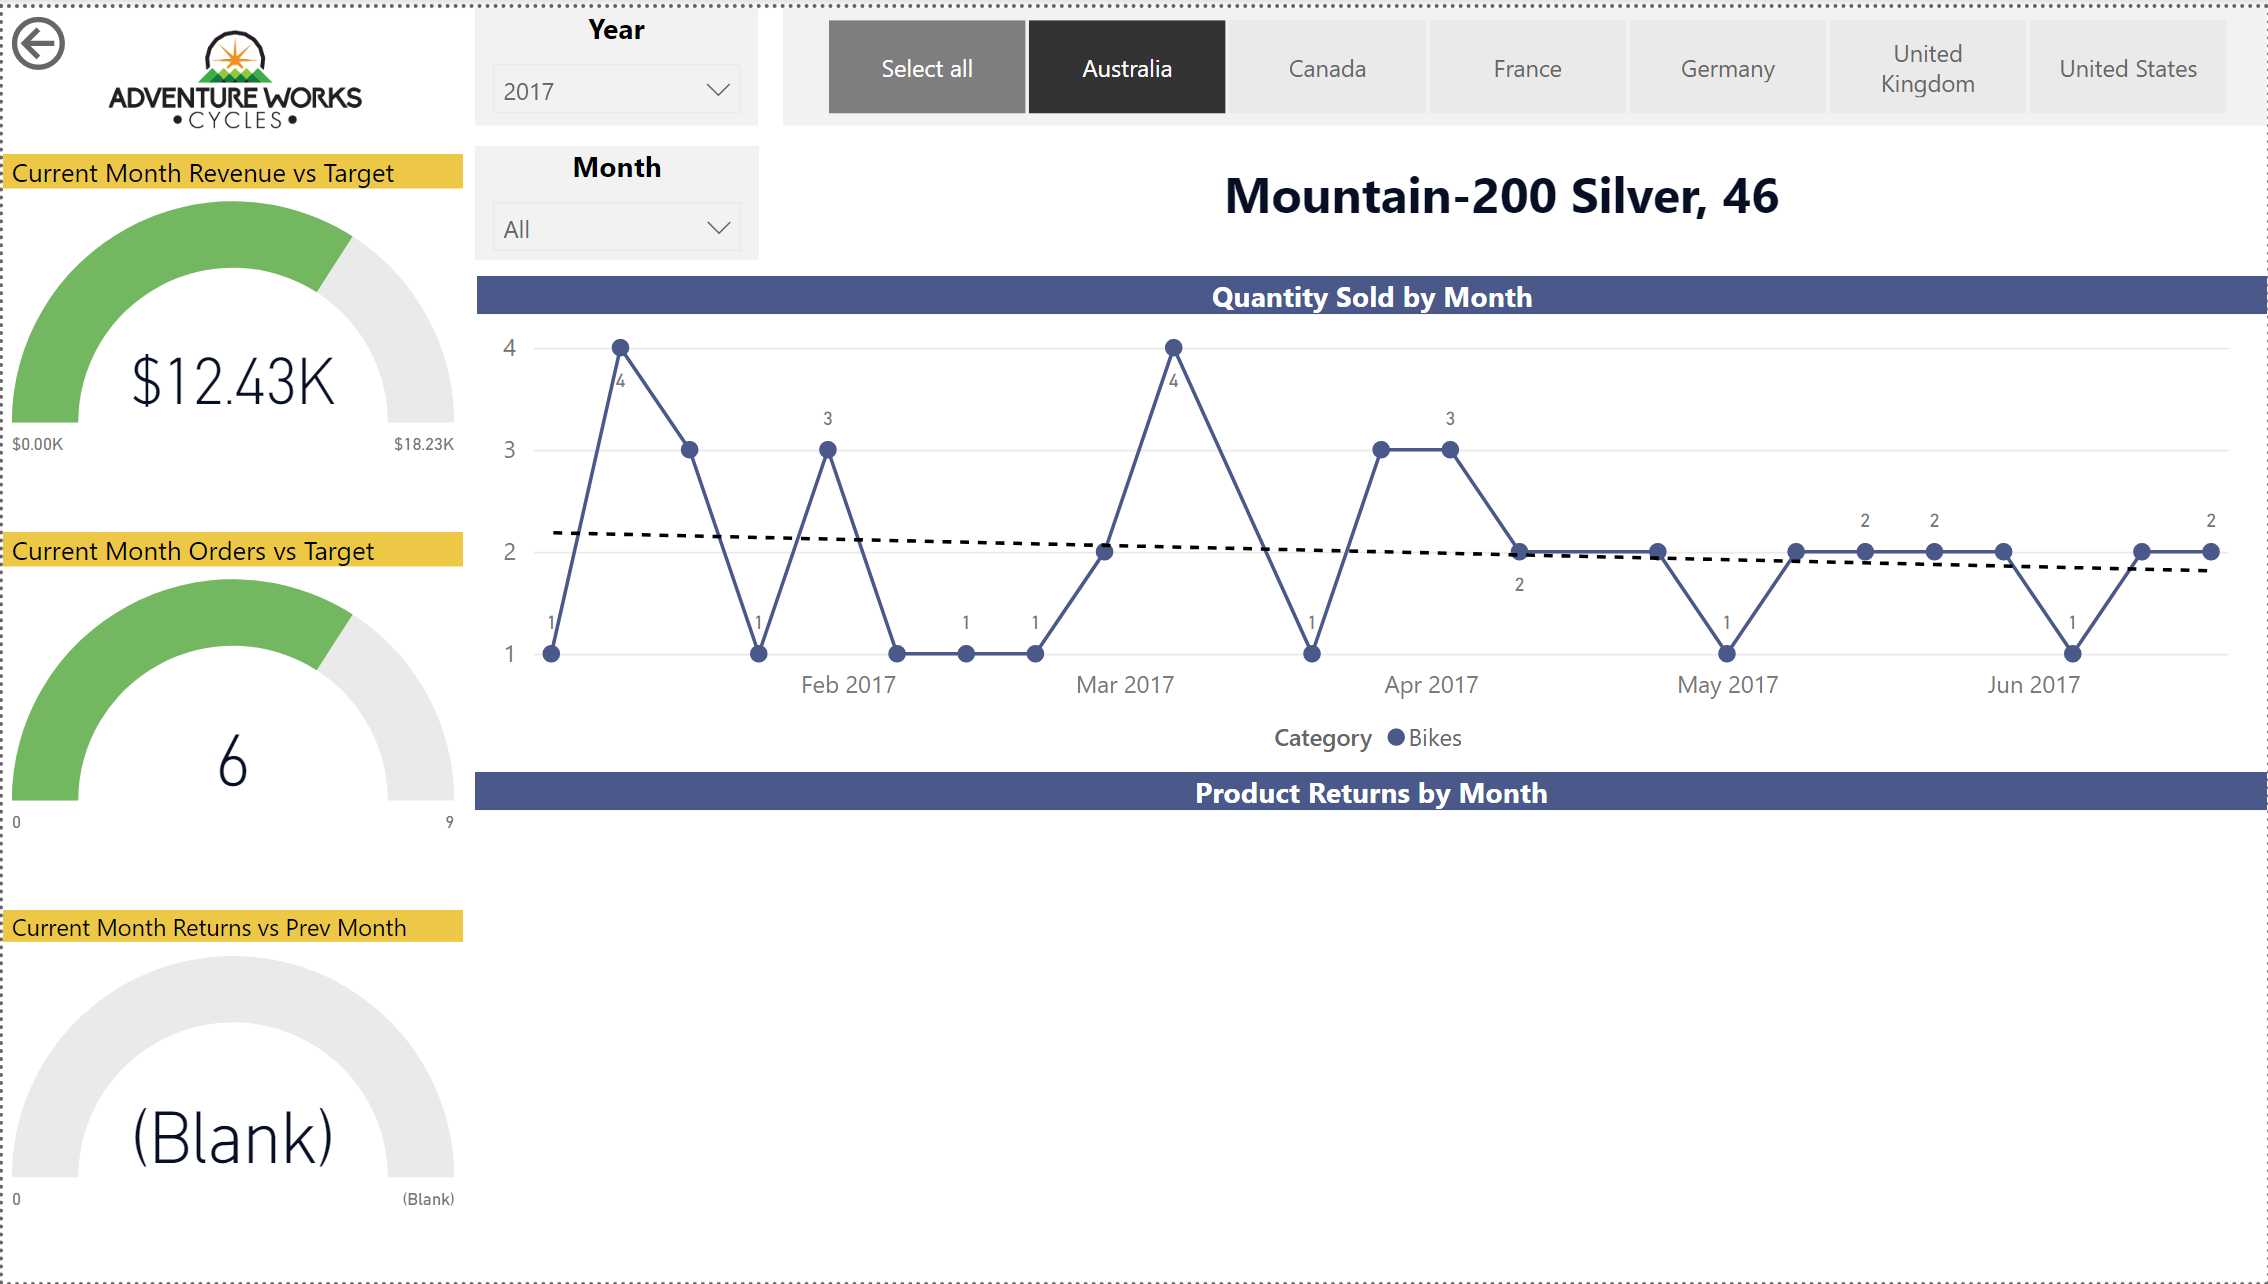

Layout of this report page (visuals, bound fields, positions):
{"tool":"powerbi","page":{"name":"Product Details","canvas":[1280,720],"ordinal":1},"visuals":[{"type":"image","box":[0,2.9,261.8,74.2],"z":0},{"type":"actionButton","box":[0,0,100,40],"z":1000},{"type":"slicer","title":"Country","fields":{"Values":["AW_Territories_Lookup.Country"]},"box":[440.8,0,839.8,66.7],"z":2000},{"type":"lineChart","title":"Quantity Sold by Month","fields":{"Category":["AW_Calendar_Lookup.Start of Week"],"Series":["AW_Product_Category_Lookup.CategoryName"],"Y":["AW_Sales.Quantity Sold"]},"box":[267.9,151.7,1012.1,279.7],"z":3000},{"type":"lineChart","title":"Product Returns by Month","fields":{"Category":["AW_Calendar_Lookup.Start of Week"],"Series":["AW_Product_Category_Lookup.CategoryName"],"Y":["AW_Returns.Total Returns"]},"box":[266.7,431.4,1013.3,280.9],"z":4000},{"type":"gauge","title":"Current Month Revenue vs Target","fields":{"Y":["AW_Sales.Total Revenue"],"MaxValue":["AW_Sales.Revenue Target"]},"box":[0,82.9,260,180],"z":6000},{"type":"gauge","title":"Current Month Orders vs Target","fields":{"MaxValue":["AW_Sales.Order Target"],"Y":["AW_Sales.Total Orders"]},"box":[0,296.4,260,180],"z":7000},{"type":"gauge","title":"Current Month Returns vs Prev Month","fields":{"MaxValue":["AW_Returns.Prev Month Returns"],"Y":["AW_Returns.Total Returns"]},"box":[0,510,260,180],"z":8000},{"type":"slicer","title":"Year","fields":{"Values":["AW_Calendar_Lookup.Year"]},"box":[266.7,0,160,66.4],"z":9000},{"type":"slicer","title":"Month","fields":{"Values":["AW_Calendar_Lookup.Month Name"]},"box":[266.8,78,160.5,64.4],"z":10000},{"type":"card","title":"Top Product","fields":{"Values":["Min(AW_Product_Lookup.ProductName)"]},"box":[440.8,76.9,838.7,61],"z":11000}]}

Visuals, with their boxes in screenshot pixels (x1, y1, x2, y2), scaled from the page's 1280x720 canvas onto the 2268x1284 screenshot:
image: BBox(0, 5, 464, 137)
actionButton: BBox(0, 0, 177, 71)
"Country" slicer: BBox(781, 0, 2267, 119)
"Quantity Sold by Month" lineChart: BBox(475, 271, 2267, 769)
"Product Returns by Month" lineChart: BBox(473, 769, 2267, 1270)
"Current Month Revenue vs Target" gauge: BBox(0, 148, 461, 469)
"Current Month Orders vs Target" gauge: BBox(0, 529, 461, 850)
"Current Month Returns vs Prev Month" gauge: BBox(0, 910, 461, 1230)
"Year" slicer: BBox(473, 0, 756, 118)
"Month" slicer: BBox(473, 139, 757, 254)
"Top Product" card: BBox(781, 137, 2267, 246)
